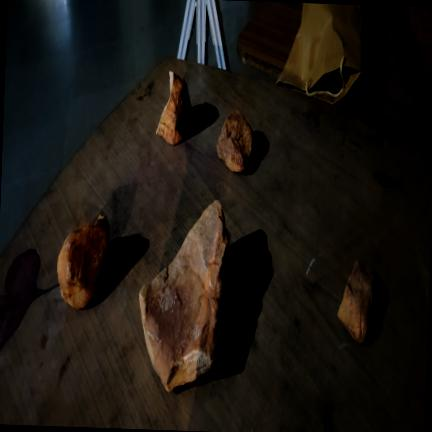Rocks: (140, 201, 229, 390), (58, 216, 109, 308), (338, 262, 376, 343), (157, 72, 192, 145), (217, 112, 255, 172)
